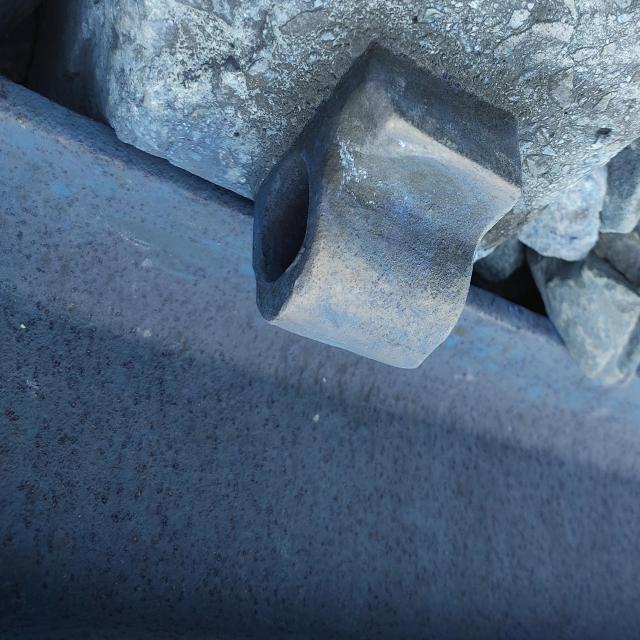Missing Fastener: (204, 25, 543, 430)
